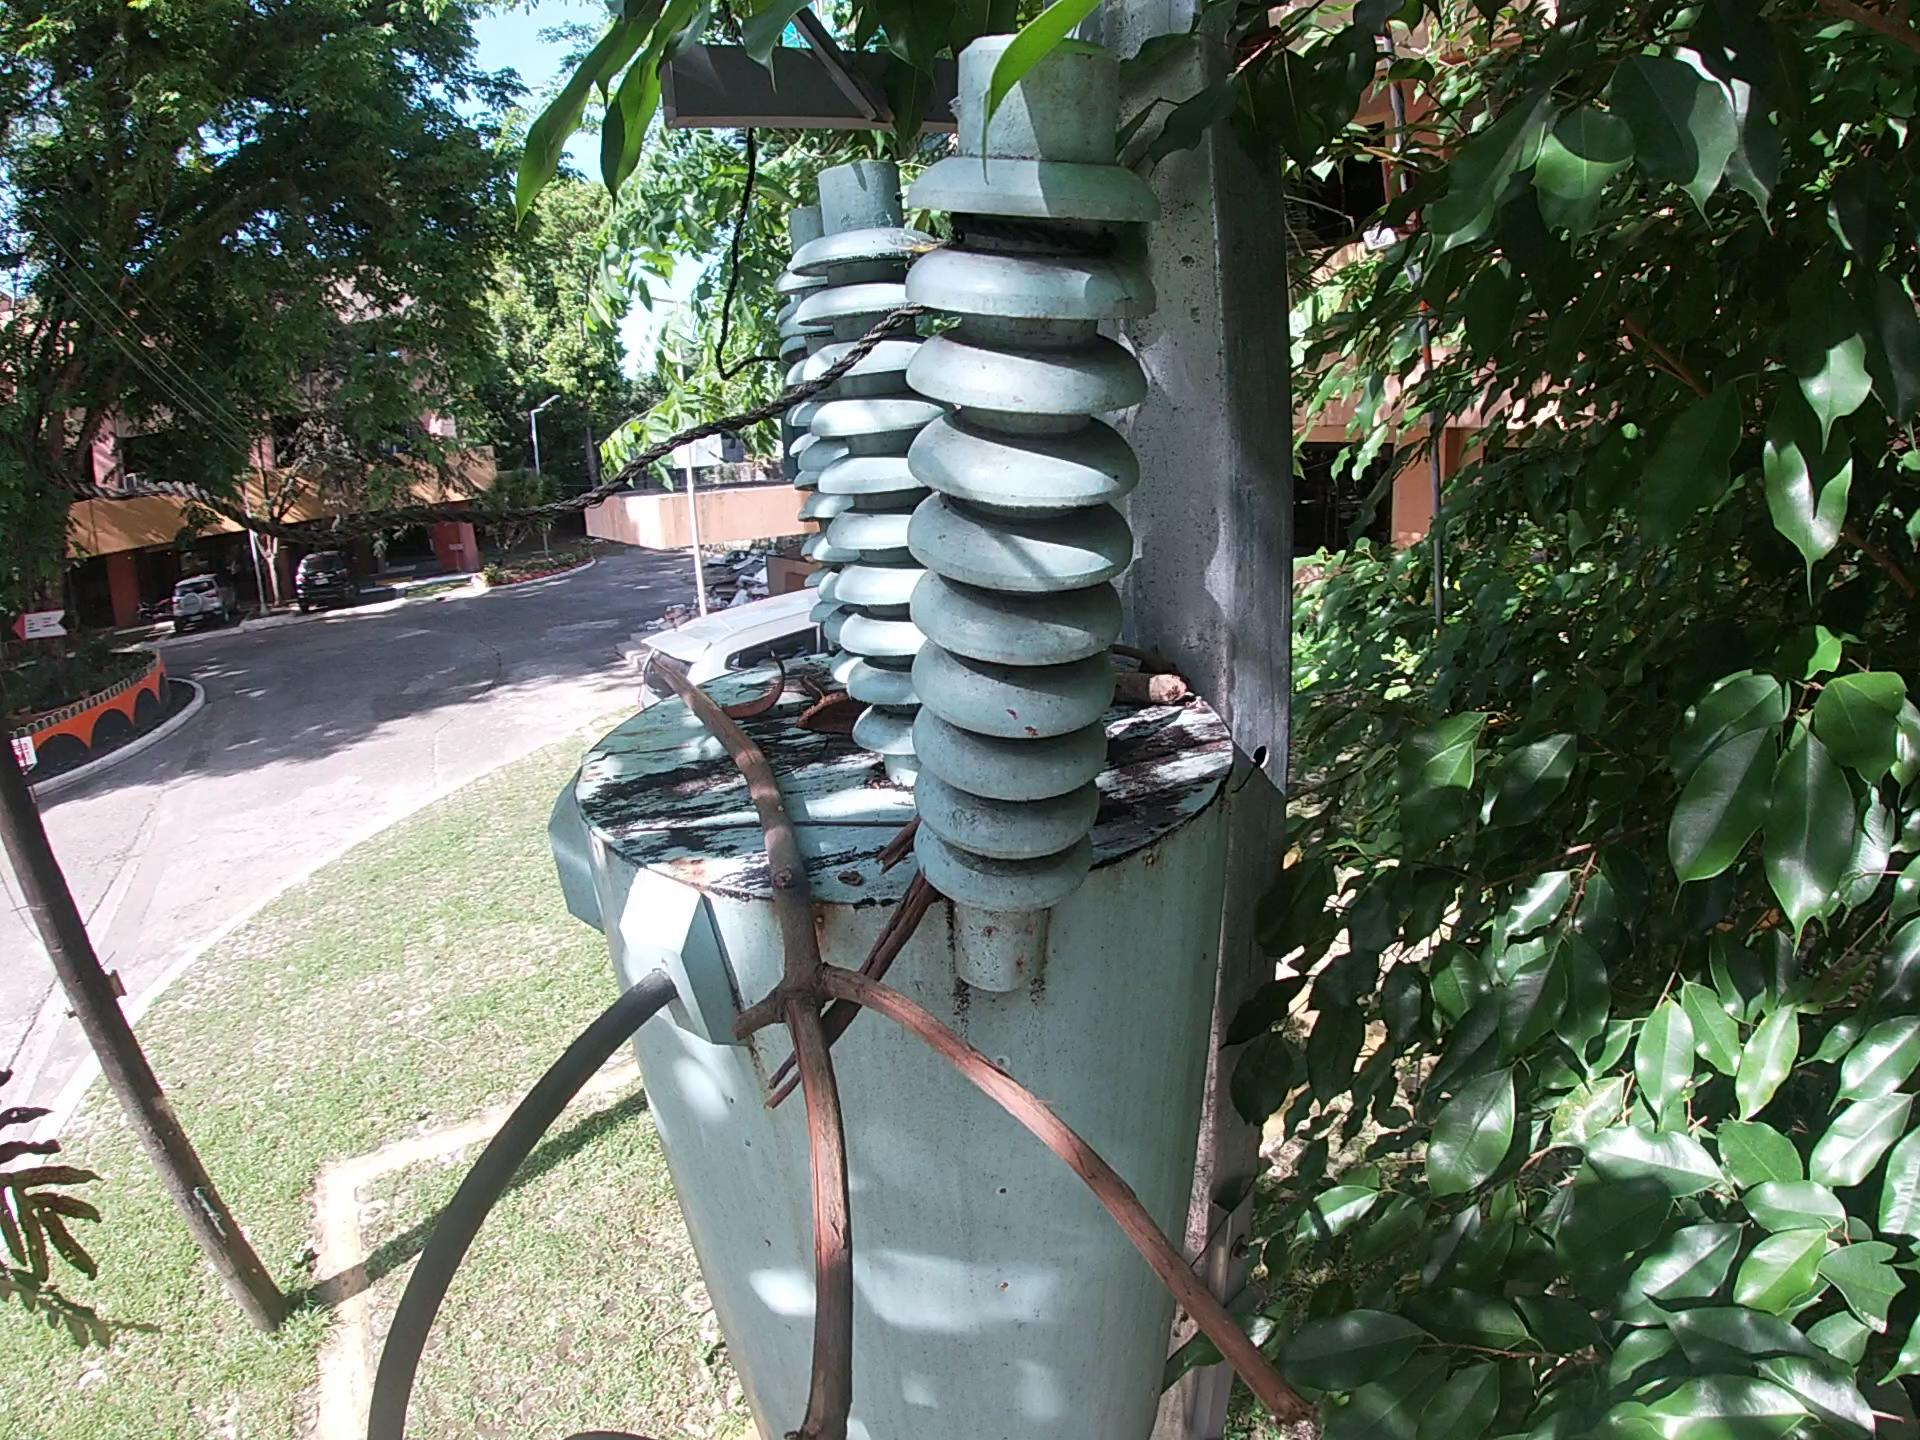mahogany fruit: (717, 646, 792, 723), (792, 690, 872, 744)
tree branch: (653, 656, 1324, 1435), (762, 867, 943, 1116), (1110, 672, 1199, 708), (1105, 641, 1179, 675)
